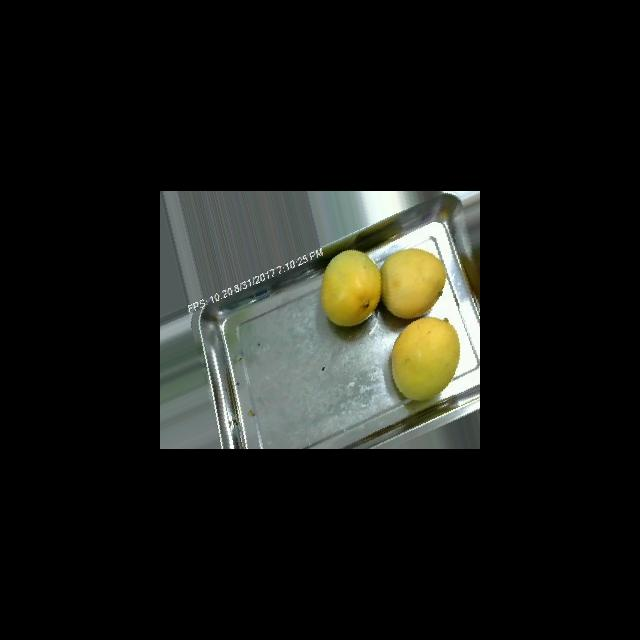mango: (390, 316, 460, 401), (320, 249, 381, 327), (380, 247, 446, 319)
